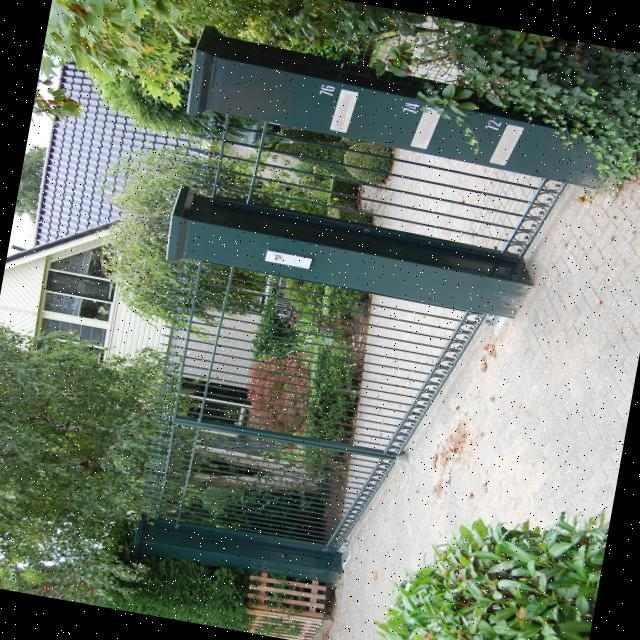fence line: (133, 264, 526, 573), (200, 116, 584, 258)
